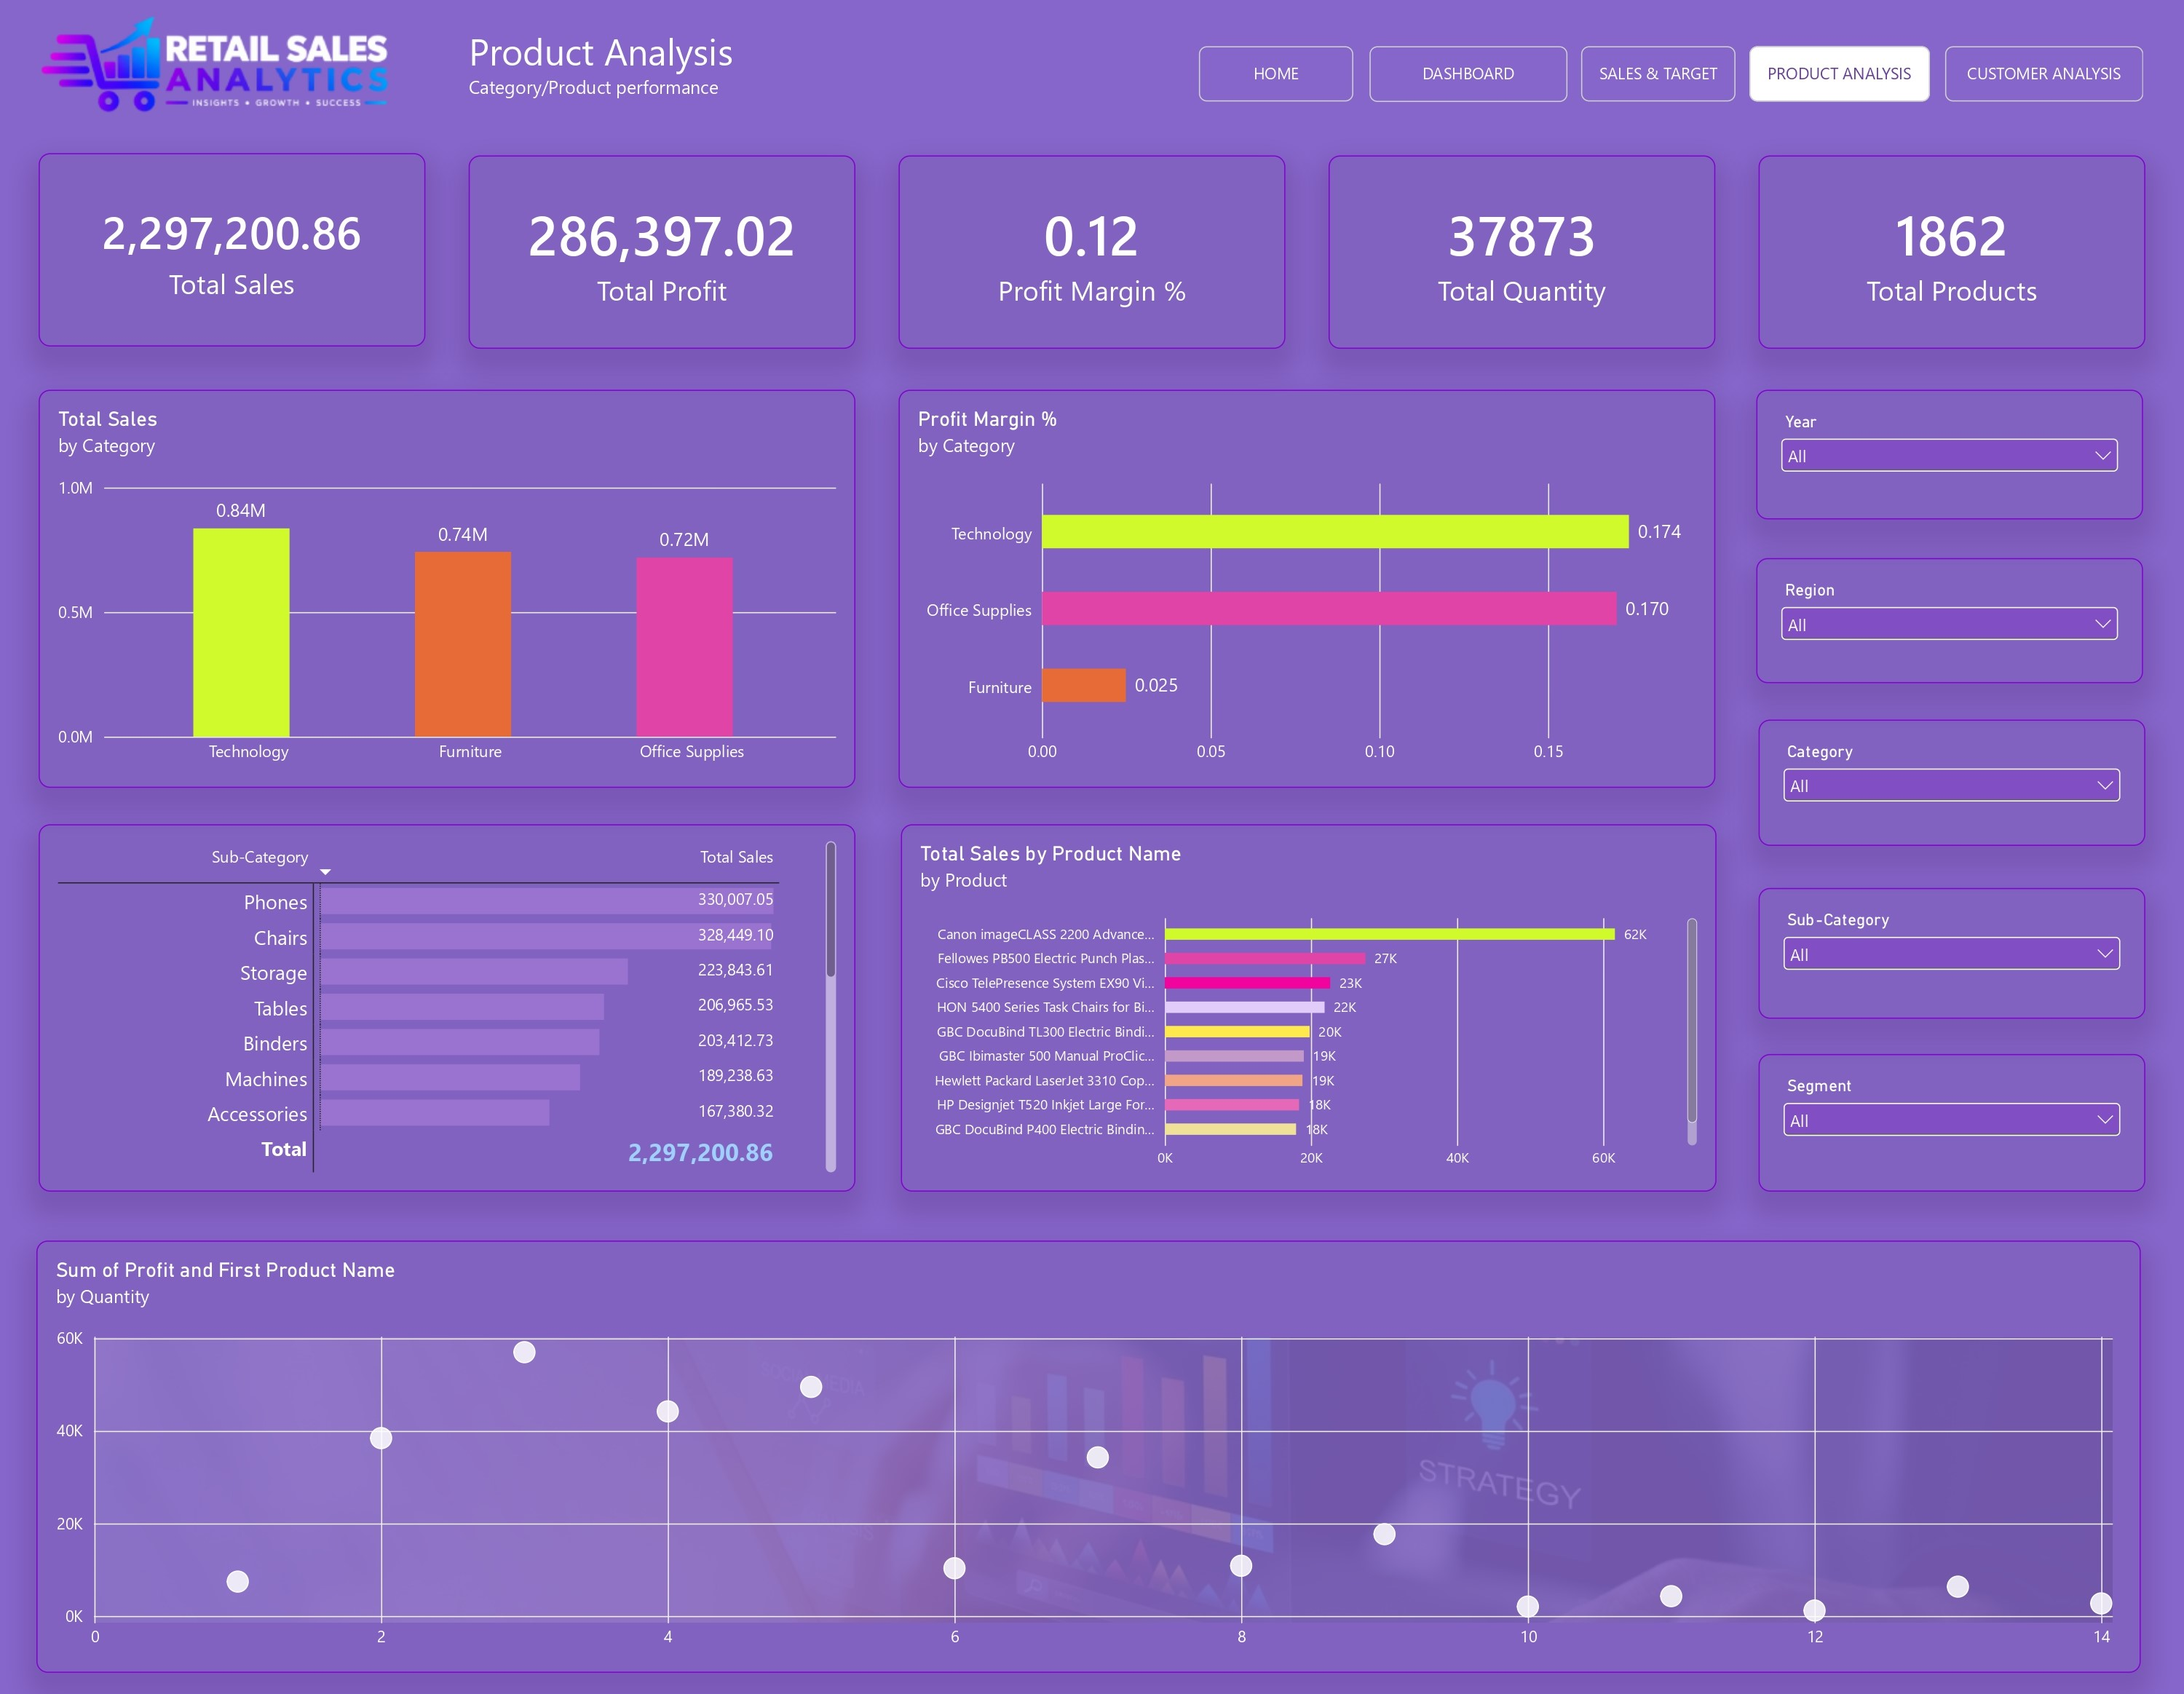

Layout of this report page (visuals, bound fields, positions):
{"tool":"powerbi","page":{"name":"Product Analysis","canvas":[1920,1500],"ordinal":3},"visuals":[{"type":"textbox","box":[412.9,28.6,255.7,72.9],"z":0},{"type":"card","fields":{"Values":["FactSales.Total Sales"]},"box":[34,140,340,170],"z":1000},{"type":"card","fields":{"Values":["FactSales.Total Profit"]},"box":[412.2,141.3,340,170],"z":2000},{"type":"card","fields":{"Values":["FactSales.Profit Margin %"]},"box":[790.3,141.3,340,170],"z":3000},{"type":"card","fields":{"Values":["FactSales.Total Quantity"]},"box":[1168.5,141.3,340,170],"z":4000},{"type":"card","fields":{"Values":["FactSales.Total Products"]},"box":[1546.7,141.3,340,170],"z":5000},{"type":"clusteredColumnChart","title":"Total Sales ","fields":{"Category":["FactSales.Category"],"Y":["FactSales.Total Sales"]},"box":[34,348,718,350],"z":6000},{"type":"barChart","fields":{"Category":["FactSales.Category"],"Y":["FactSales.Profit Margin %"]},"box":[790,348,718,350],"z":7000},{"type":"pivotTable","fields":{"Rows":["FactSales.Sub-Category"],"Values":["FactSales.Total Sales"]},"box":[33.3,730,718.3,323.3],"z":8000},{"type":"barChart","fields":{"Category":["FactSales.Product Name"],"Y":["FactSales.Total Sales"]},"box":[791.7,730,716.7,323.3],"z":9000},{"type":"slicer","fields":{"Values":["DimDate.Year"]},"box":[1543.5,348.8,340,113.8],"z":10000},{"type":"slicer","fields":{"Values":["FactSales.Region"]},"box":[1544.7,495,340,110],"z":11000},{"type":"slicer","fields":{"Values":["FactSales.Category"]},"box":[1546.2,638.8,340,111.2],"z":12000},{"type":"slicer","fields":{"Values":["FactSales.Sub-Category"]},"box":[1546.2,785,340,115],"z":13000},{"type":"slicer","fields":{"Values":["FactSales.Segment"]},"box":[1546.2,932.5,340,121.2],"z":14000},{"type":"scatterChart","fields":{"X":["FactSales.Quantity"],"Y":["Sum(FactSales.Profit)"]},"box":[32.5,1095,1850,380],"z":15000},{"type":"actionButton","box":[1054.6,45.7,135.7,48.6],"z":16000},{"type":"actionButton","box":[1389.7,45.7,135.7,48.6],"z":17000},{"type":"actionButton","box":[1538,45.7,158.6,48.6],"z":18000},{"type":"actionButton","box":[1709.2,45.7,174.3,48.6],"z":19000},{"type":"actionButton","box":[1203,46,174,49],"z":20000},{"type":"image","box":[32.9,5.7,315.7,110],"z":20001}]}

Visuals, with their boxes in screenshot pixels (x1, y1, x2, y2), scaled from the page's 1920x1500 canvas onto the 2184x1694 screenshot:
textbox: {"x1": 470, "y1": 32, "x2": 761, "y2": 114}
card - FactSales.Total Sales: {"x1": 39, "y1": 158, "x2": 425, "y2": 350}
card - FactSales.Total Profit: {"x1": 469, "y1": 159, "x2": 855, "y2": 352}
card - FactSales.Profit Margin %: {"x1": 899, "y1": 159, "x2": 1286, "y2": 352}
card - FactSales.Total Quantity: {"x1": 1329, "y1": 159, "x2": 1716, "y2": 352}
card - FactSales.Total Products: {"x1": 1760, "y1": 159, "x2": 2146, "y2": 352}
"Total Sales " clusteredColumnChart: {"x1": 39, "y1": 393, "x2": 855, "y2": 788}
barChart - FactSales.Category x FactSales.Profit Margin %: {"x1": 898, "y1": 393, "x2": 1715, "y2": 788}
pivotTable - FactSales.Sub-Category x FactSales.Total Sales: {"x1": 38, "y1": 824, "x2": 855, "y2": 1190}
barChart - FactSales.Product Name x FactSales.Total Sales: {"x1": 901, "y1": 824, "x2": 1716, "y2": 1190}
slicer - DimDate.Year: {"x1": 1756, "y1": 394, "x2": 2143, "y2": 523}
slicer - FactSales.Region: {"x1": 1757, "y1": 559, "x2": 2144, "y2": 684}
slicer - FactSales.Category: {"x1": 1759, "y1": 721, "x2": 2145, "y2": 847}
slicer - FactSales.Sub-Category: {"x1": 1759, "y1": 887, "x2": 2145, "y2": 1016}
slicer - FactSales.Segment: {"x1": 1759, "y1": 1053, "x2": 2145, "y2": 1190}
scatterChart - FactSales.Quantity x Sum(FactSales.Profit): {"x1": 37, "y1": 1237, "x2": 2141, "y2": 1666}
actionButton: {"x1": 1200, "y1": 52, "x2": 1354, "y2": 106}
actionButton: {"x1": 1580, "y1": 52, "x2": 1735, "y2": 106}
actionButton: {"x1": 1749, "y1": 52, "x2": 1930, "y2": 106}
actionButton: {"x1": 1944, "y1": 52, "x2": 2143, "y2": 106}
actionButton: {"x1": 1369, "y1": 52, "x2": 1567, "y2": 107}
image: {"x1": 37, "y1": 7, "x2": 397, "y2": 130}
